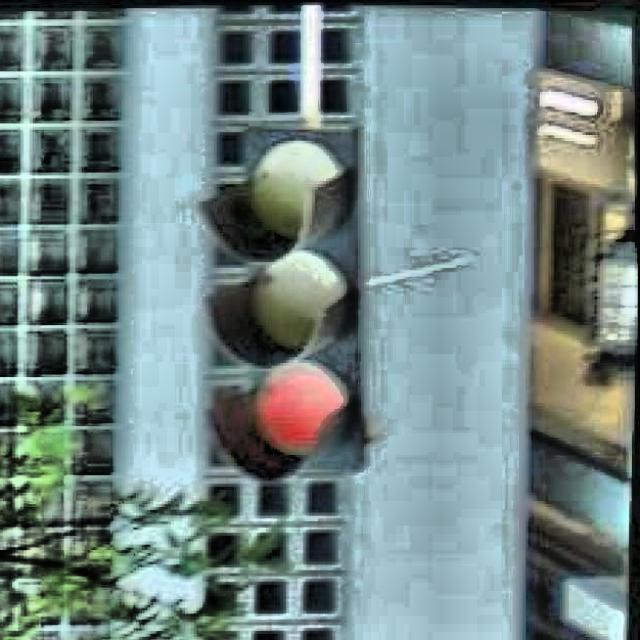red: (226, 123, 364, 479)
